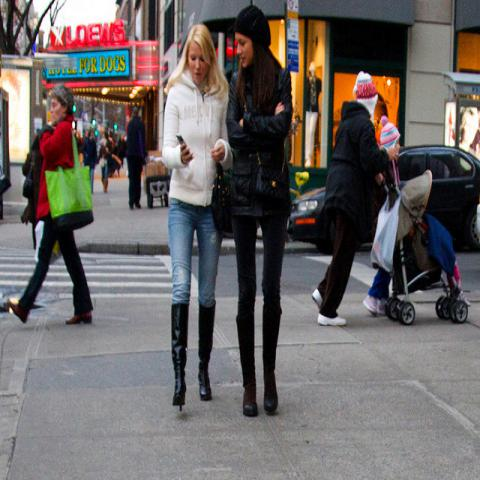car: (289, 147, 480, 251)
